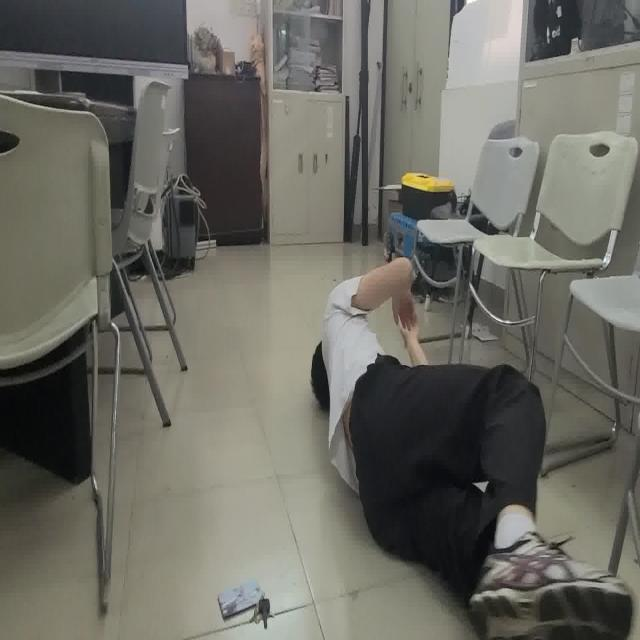Fall-Detected: (310, 257, 637, 640)
